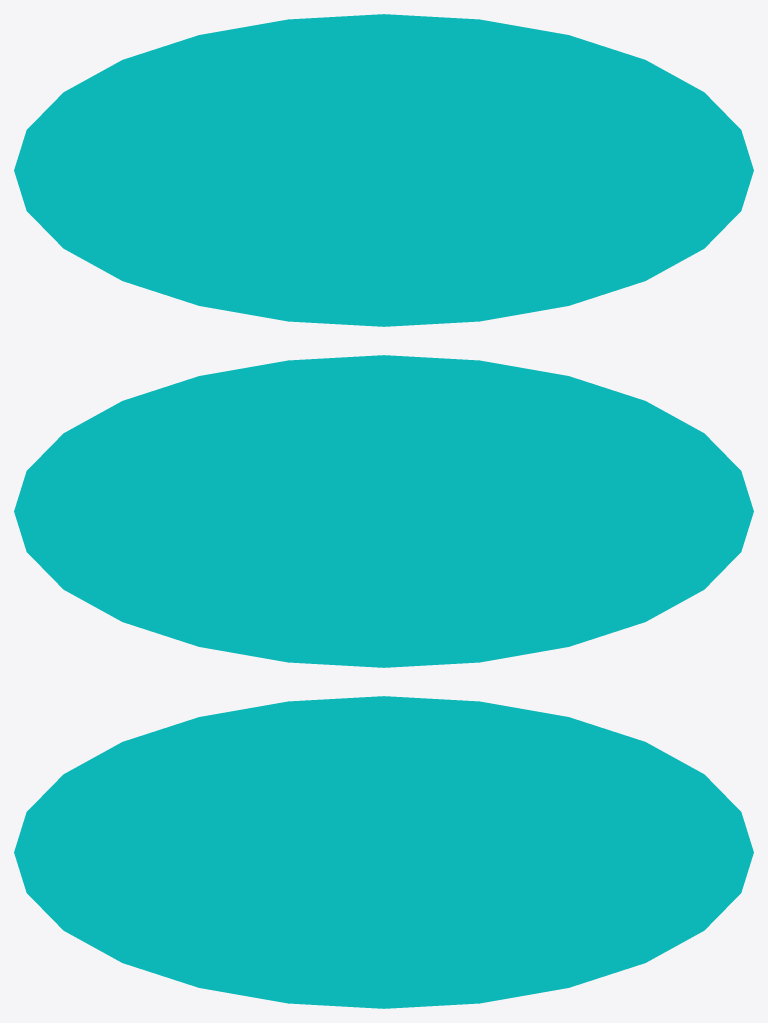
File: Proto_Plane_Round_01.fbx
3 renders of one model, top to bottom at view 1: azimuth 30°, elevation 25°; view 2: azimuth 150°, elevation 25°; view 3: azimuth 270°, elevation 25°, orthographic.
Visible parts, largest first — view 1: Proto_Plane_Round_01; view 2: Proto_Plane_Round_01; view 3: Proto_Plane_Round_01.
Boxes of the visible parts, left/top/right/bottom form: Proto_Plane_Round_01: left=14, top=14, right=753, bottom=326; Proto_Plane_Round_01: left=14, top=355, right=753, bottom=667; Proto_Plane_Round_01: left=14, top=696, right=753, bottom=1008.
Bounding box in the file's own units: 20 × 1.64e-05 × 20.
